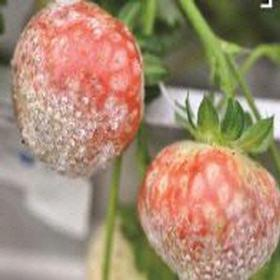Powdery Mildew Fruit: (8, 0, 145, 179), (136, 139, 279, 279)
